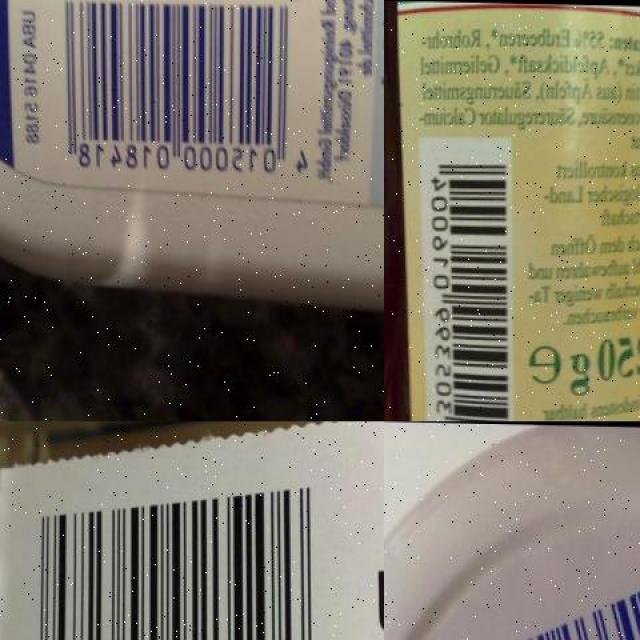Barcode: (0, 466, 365, 640), (51, 0, 313, 181), (421, 134, 512, 422), (397, 536, 640, 640)
